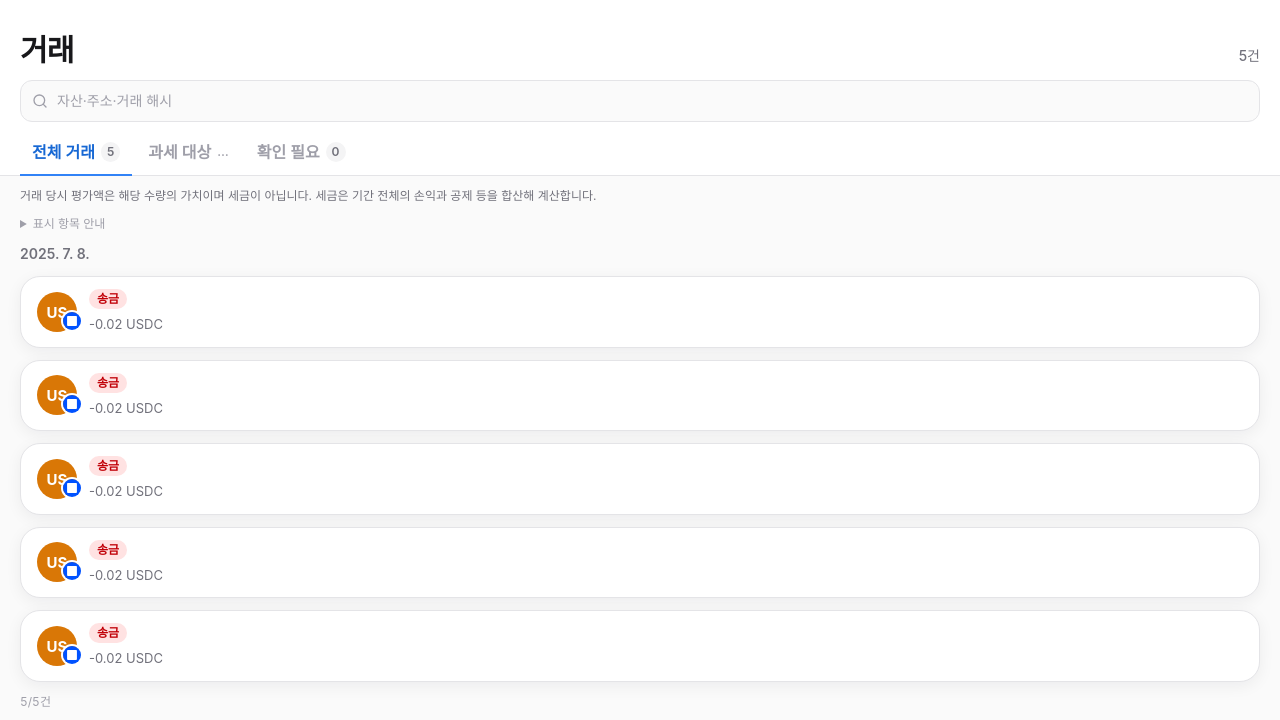
Scenario: 과세 대상 탭 › 기간 내 과세 처분과 소득만 표시하고 원가 취득 및 면세 거래는 제외한다
Click the tab "과세 대상 …": {"x": 188, "y": 153} [136, 130, 241, 176]
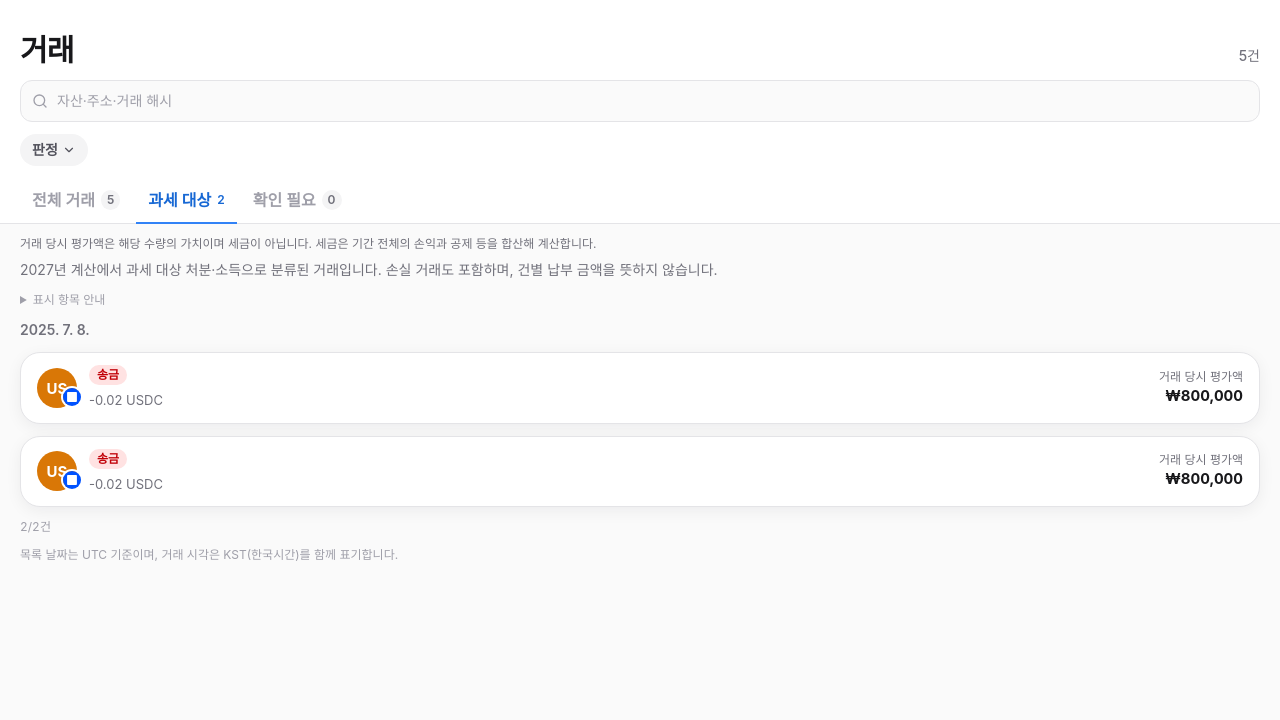
Check: the text "2027년 계산에서 과세 대상 처분·소득으로 분류된 거래입니다. 손실 거래도 포함하며, 건별 납부 금액을 뜻하지 않습니다." is shown, box [20, 261, 718, 278]
